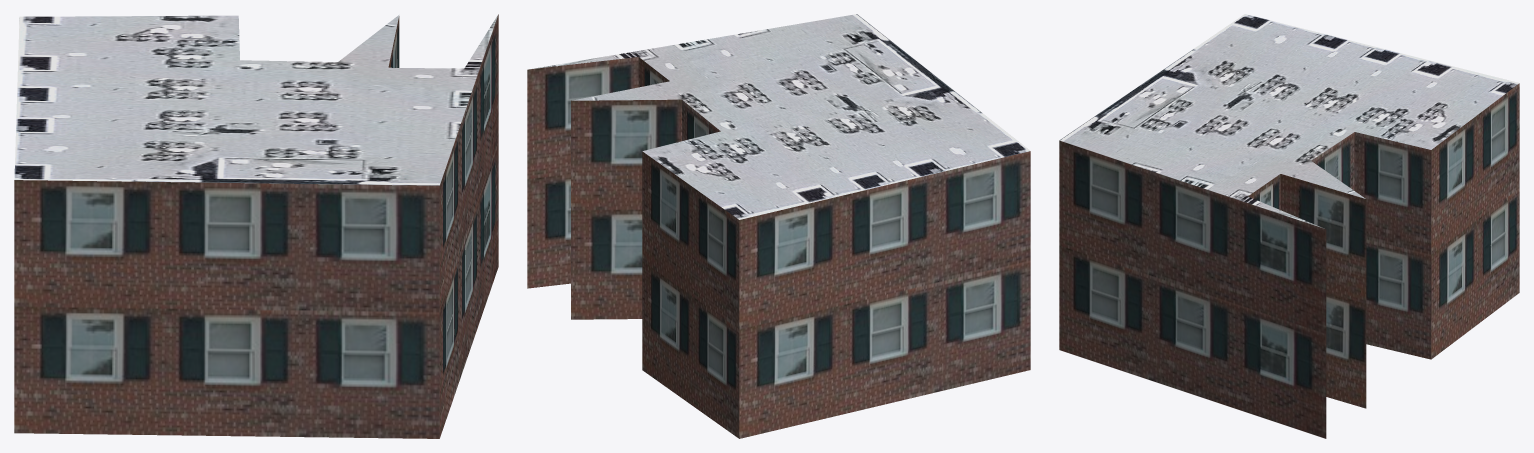
Rendered from ResTex__2775.fbx.
3 views of the same model, side by side, from view 1: azimuth 30°, elevation 25°; view 2: azimuth 150°, elevation 25°; view 3: azimuth 270°, elevation 25° (orthographic). The views are drawn at different scales.
Parts seen in each view (by area): view 1: CityEngineMaterial_14_m, CityEngineMaterial_m; view 2: CityEngineMaterial_14_m, CityEngineMaterial_m; view 3: CityEngineMaterial_14_m, CityEngineMaterial_m.
Part boxes in pixels (box(x1,y1,x2,y2)): CityEngineMaterial_14_m: box(14, 14, 498, 438); CityEngineMaterial_m: box(14, 15, 497, 185); CityEngineMaterial_14_m: box(527, 57, 1030, 438); CityEngineMaterial_m: box(530, 14, 1029, 219); CityEngineMaterial_14_m: box(1059, 83, 1519, 438); CityEngineMaterial_m: box(1059, 14, 1519, 228).
Size of the model in its own units: 13.22 by 6 by 11.95.
Materials: 2 (2 with a texture image).
